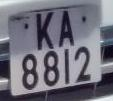1: (61, 46, 75, 88)
2: (72, 42, 94, 87)
8: (16, 49, 42, 94), (39, 48, 63, 90)
A: (57, 5, 78, 52)
K: (33, 8, 59, 53)
